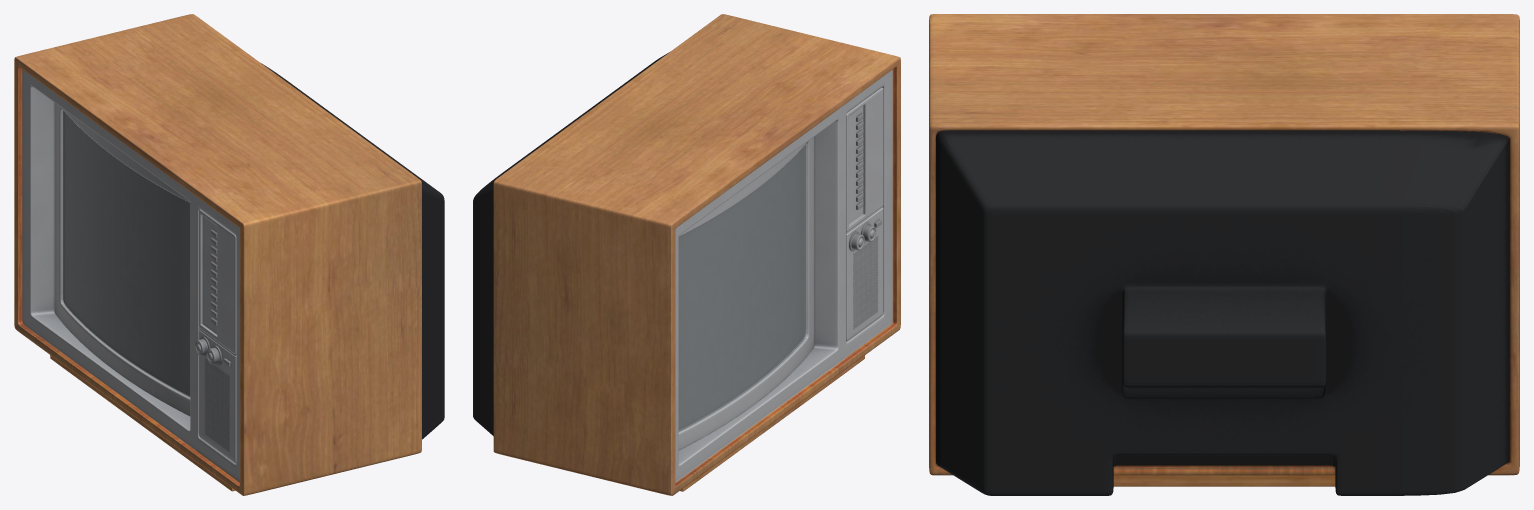
3 renders of one model, left to right at view 1: azimuth 30°, elevation 25°; view 2: azimuth 150°, elevation 25°; view 3: azimuth 270°, elevation 25°, orthographic. The views are drawn at different scales.
Visible parts, largest first — view 1: tv:Mesh; view 2: tv:Mesh; view 3: tv:Mesh.
Part boxes in pixels (x1,y1,x2,y2): tv:Mesh: (14, 14, 444, 495); tv:Mesh: (473, 14, 900, 495); tv:Mesh: (929, 14, 1519, 495).
Bounding box in the file's own units: 18.45 × 19.83 × 28.67.
